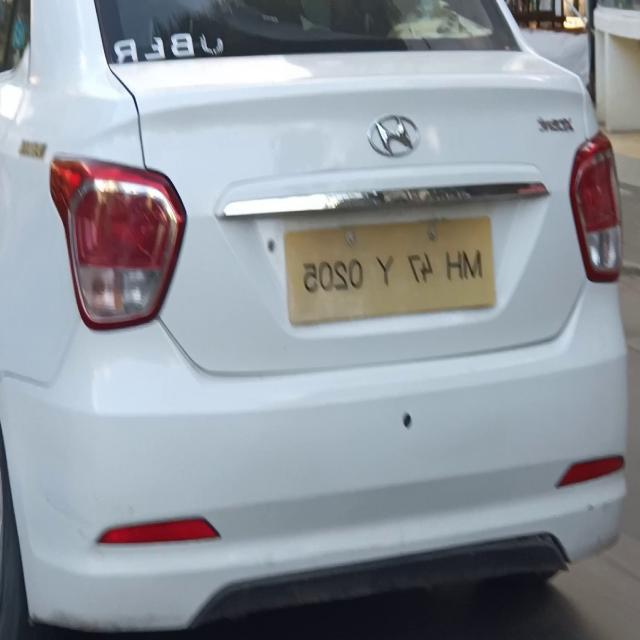license_plate: (280, 208, 501, 332)
